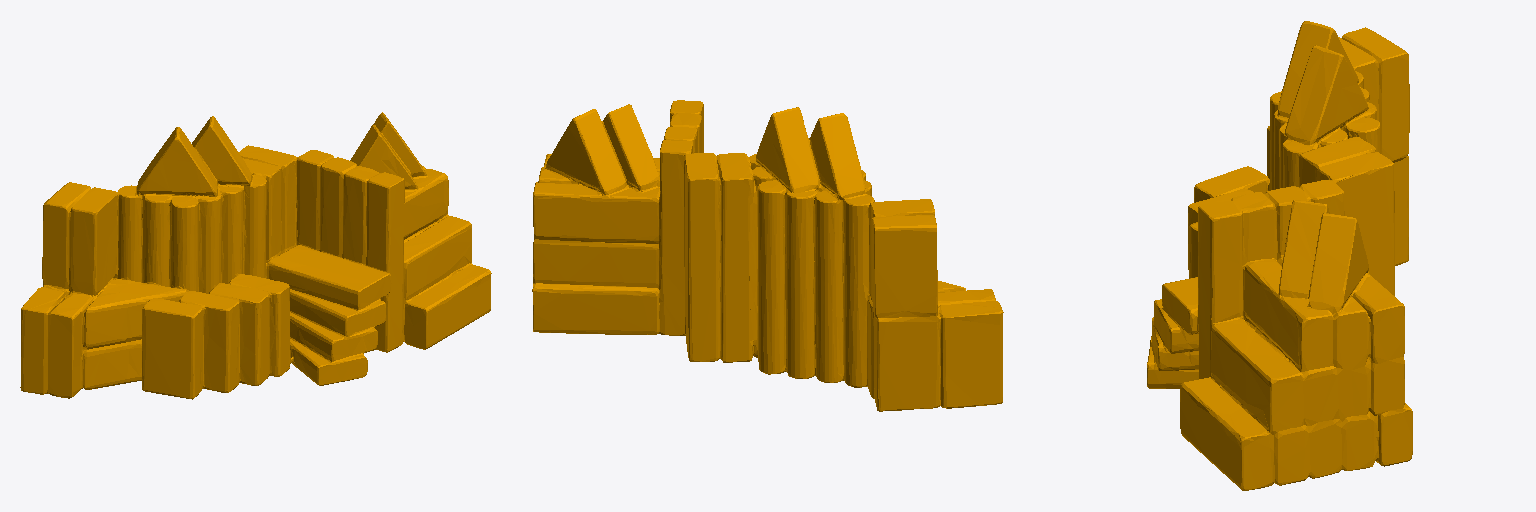
URDF robot description (1jfe0ivj):
<?xml version='1.0'?>

<robot name="1jfe0ivj">
    <static>false</static>
    <link name="link">
        <inertial>
            <mass value="0.07943742991903416"/>
            <inertia ixx="2.061497695677071e-05" ixy="4.110485483359361e-06" ixz="1.992325036128424e-06"
                     iyy="8.856514137676199e-05" iyz="-2.6610654271773135e-06" izz="8.292874168080915e-05"/>
        </inertial>
        <collision name="collision">
            <geometry>
                <mesh filename="package://miscnet/train/1jfe0ivj/collision_model_vhacd.obj"/>
            </geometry>
        </collision>
        <visual name="visual">
            <geometry>
                <mesh filename="package://miscnet/train/1jfe0ivj/visual_model.obj"/>
            </geometry>
        </visual>
    </link>
</robot>

--- What the picture shows (computed from the rendered views, not written in the file) ---
Views: 3 orthographic renders of the robot side by side, from view 1: azimuth 30°, elevation 25°; view 2: azimuth 150°, elevation 25°; view 3: azimuth 270°, elevation 25°.
Model 1jfe0ivj with 1 links and 0 joints (none), rooted at link, posed every joint at zero.
Links seen in each view (by area): view 1: link; view 2: link; view 3: link.
Link boxes in pixels (x1,y1,x2,y2): link: (20,112,491,399); link: (532,100,1003,411); link: (1147,21,1412,490).
Bounding box of the posed robot: 0.1245 × 0.0511 × 0.0619 m (x, y, z).
1 mesh visuals loaded from 1 distinct referenced files (1 OBJ).
